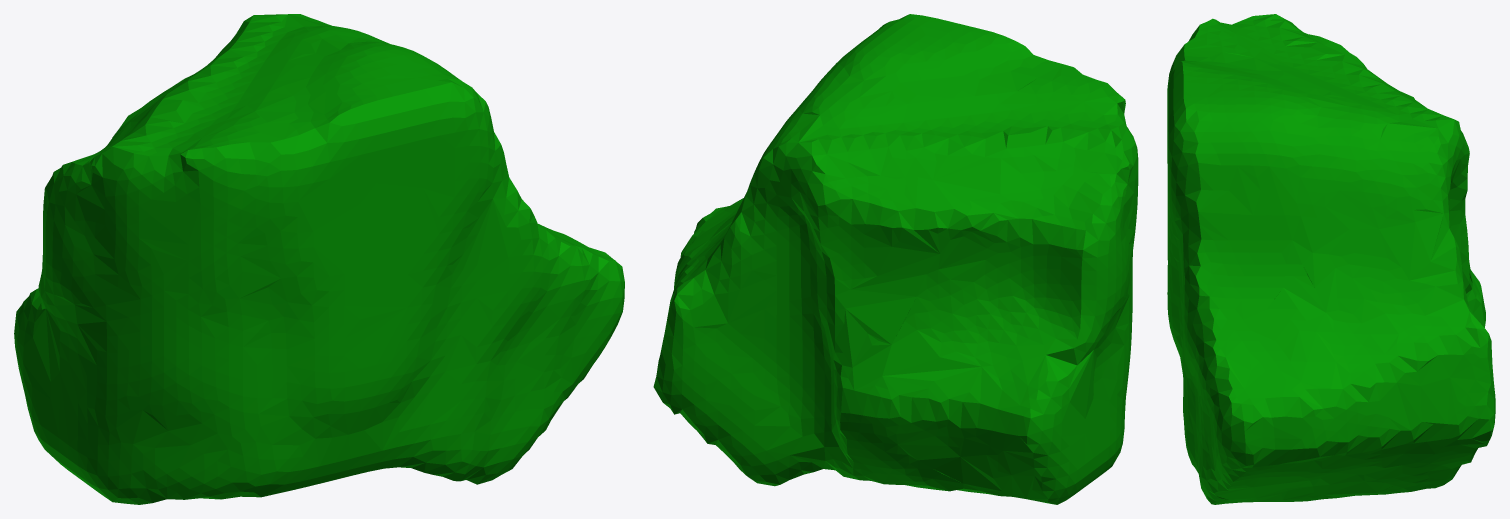
The model's file is Model_150_RH__Visual_area_6A_(posterior_parietal_medial_area)_(V6A).obj.
3 views of the same model, side by side, from view 1: azimuth 30°, elevation 25°; view 2: azimuth 150°, elevation 25°; view 3: azimuth 270°, elevation 25° (orthographic). The views are drawn at different scales.
Size of the model in its own units: 3.31 by 2.61 by 2.08.
